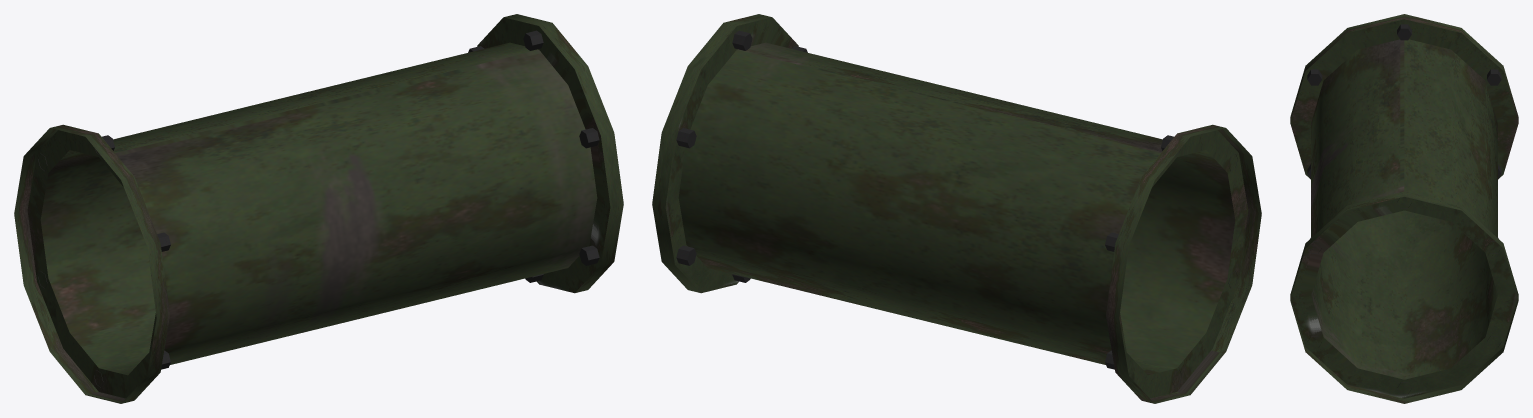
The model's file is Pipe_Short.fbx.
3 views of the same model, side by side, from view 1: azimuth 30°, elevation 25°; view 2: azimuth 150°, elevation 25°; view 3: azimuth 270°, elevation 25° (orthographic). The views are drawn at different scales.
Parts seen in each view (by area): view 1: shortPipe; view 2: shortPipe; view 3: shortPipe.
Boxes of the visible parts, bbox=[...] form: shortPipe: bbox=[14, 14, 623, 403]; shortPipe: bbox=[652, 14, 1261, 403]; shortPipe: bbox=[1290, 14, 1518, 403].
Size of the model in its own units: 4.63 by 2.45 by 2.45.
Materials: 1 (1 with a texture image).
